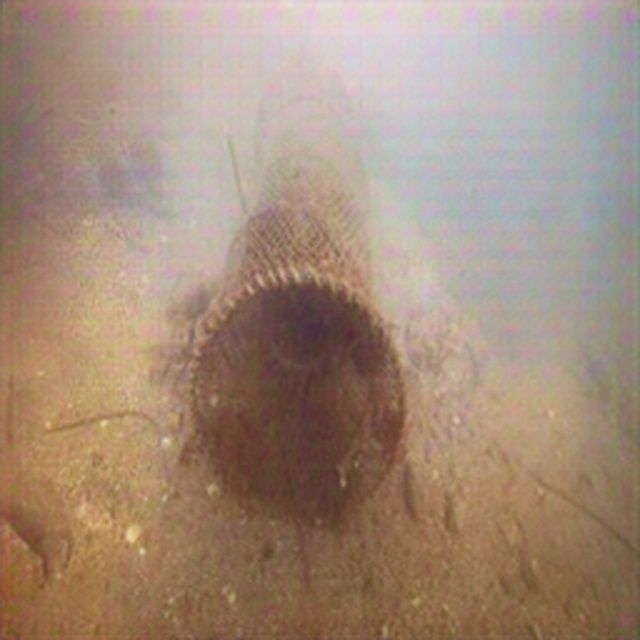mine: (186, 53, 406, 524)
